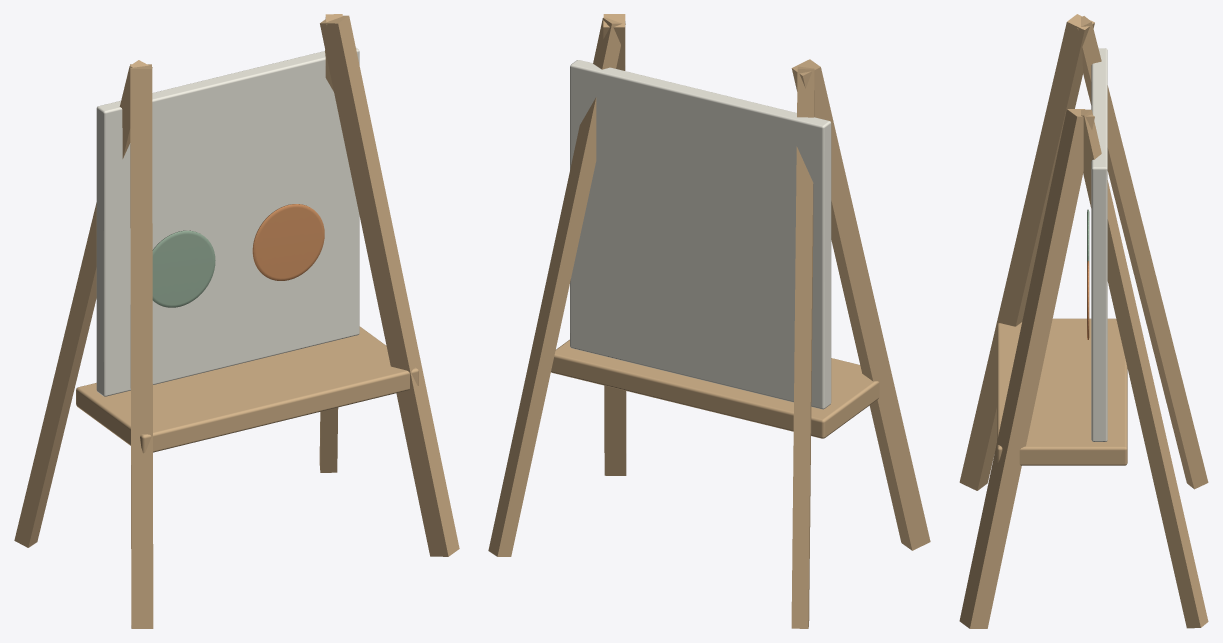
Rendered from public-library-and-reading-garden-public-library-and-r-2e4513e7__30944.glb.
The picture shows the model from 3 angles, left to right: view 1: azimuth 30°, elevation 25°; view 2: azimuth 150°, elevation 25°; view 3: azimuth 270°, elevation 25°; orthographic projection. The views are drawn at different scales.
Parts seen in each view (by area): view 1: public-library-and-reading-garden-story-display-easel; view 2: public-library-and-reading-garden-story-display-easel; view 3: public-library-and-reading-garden-story-display-easel.
Boxes of the visible parts, x1,y1,x2,y2 form: public-library-and-reading-garden-story-display-easel: (14,14,459,628); public-library-and-reading-garden-story-display-easel: (488,14,930,628); public-library-and-reading-garden-story-display-easel: (959,14,1208,628).
Size of the model in its own units: 0.7808 by 1.16 by 0.5334.
